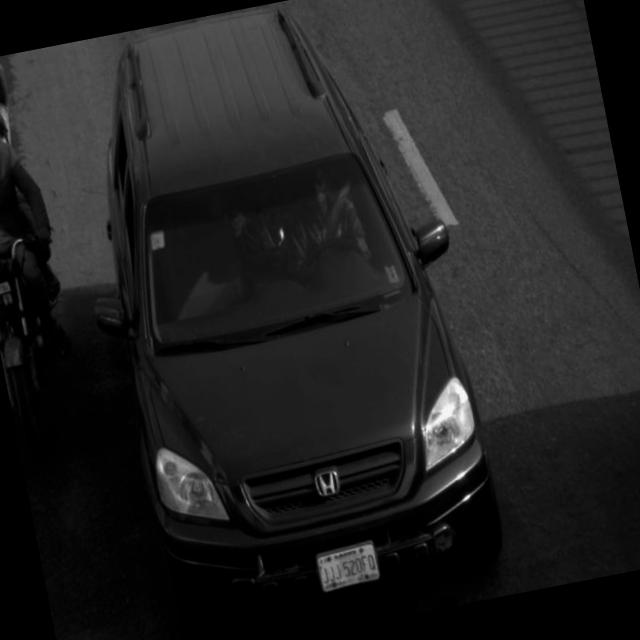person_with_seatbelt: (258, 172, 380, 290)
